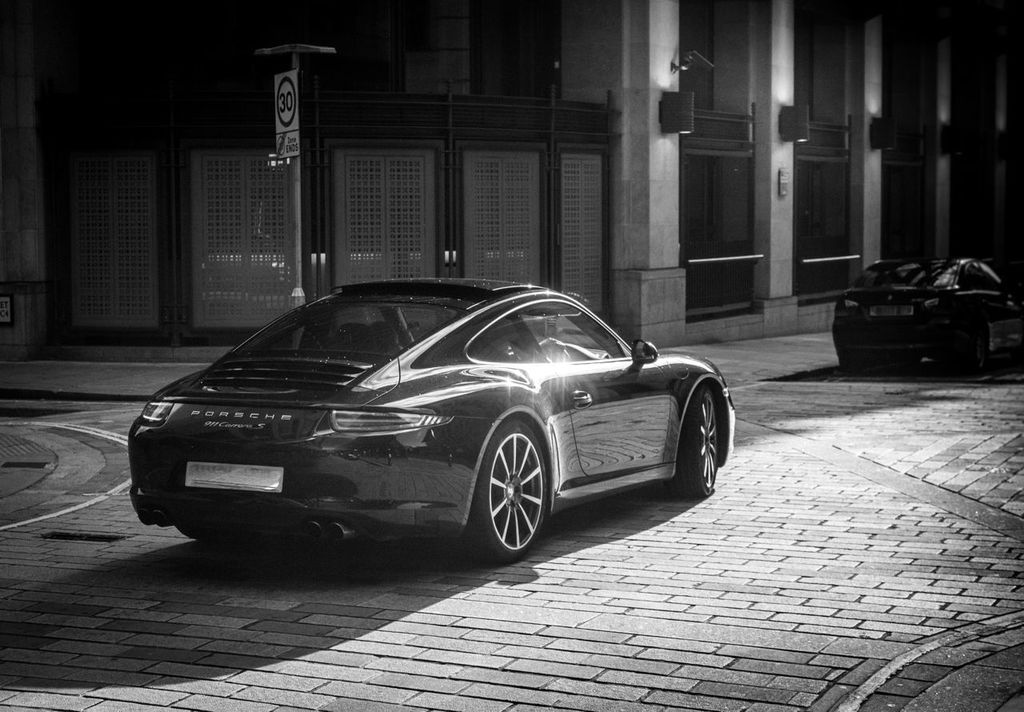cars: (115, 273, 743, 568), (831, 250, 1023, 370)
